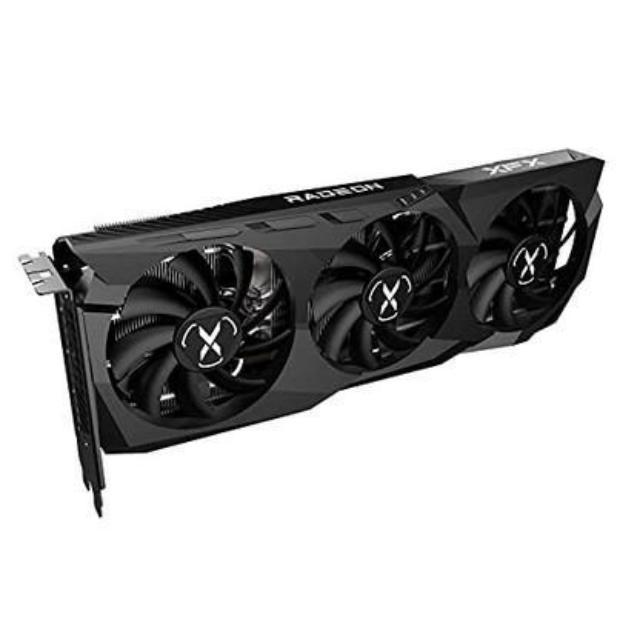GPU: (42, 143, 610, 451)
